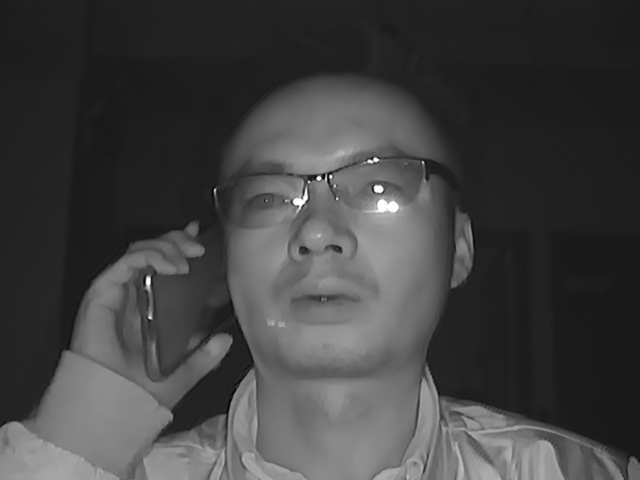hand: (74, 229, 202, 409)
